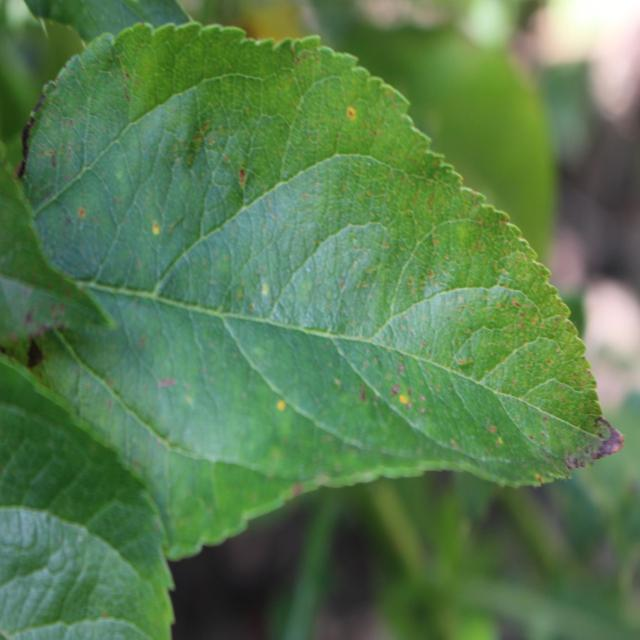Rust: (268, 384, 293, 416), (393, 378, 414, 412), (526, 460, 544, 498), (345, 97, 362, 132), (146, 211, 164, 244)
